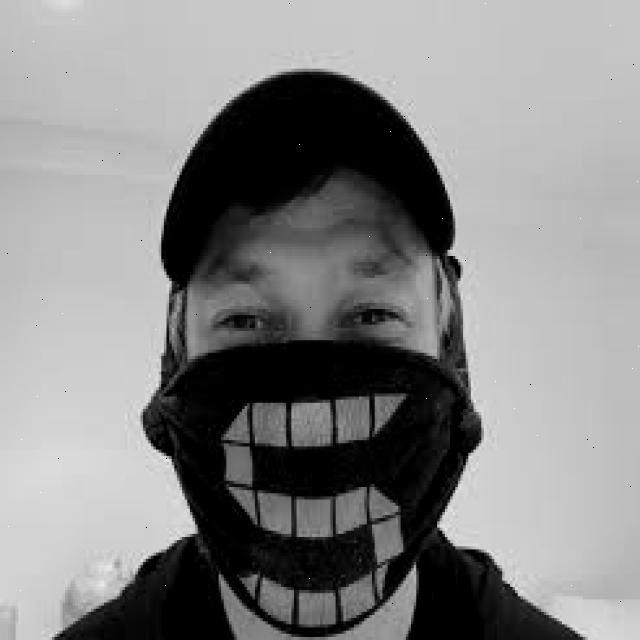fake: (122, 338, 513, 640)
real: (165, 177, 456, 634)
